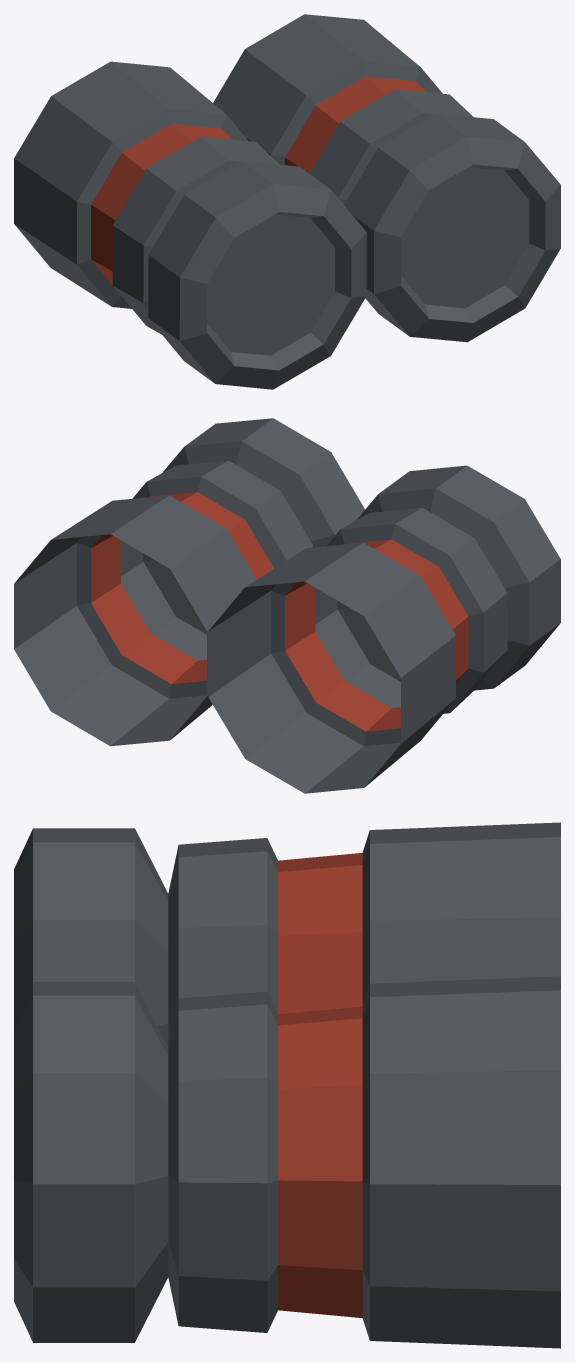
The model's file is Personal_Vehicle_02_Head_Lights_Red.fbx.
The picture shows the model from 3 angles, top to bottom: view 1: azimuth 30°, elevation 25°; view 2: azimuth 150°, elevation 25°; view 3: azimuth 270°, elevation 25°; orthographic projection. The views are drawn at different scales.
Visible parts, largest first — view 1: Personal_Vehicle_02_Head_Lights_Red; view 2: Personal_Vehicle_02_Head_Lights_Red; view 3: Personal_Vehicle_02_Head_Lights_Red.
Boxes of the visible parts, box(x1,y1,x2,y2) form: Personal_Vehicle_02_Head_Lights_Red: box(14, 14, 560, 389); Personal_Vehicle_02_Head_Lights_Red: box(14, 418, 560, 793); Personal_Vehicle_02_Head_Lights_Red: box(14, 822, 560, 1348).
Bounding box in the file's own units: 38.22 × 20.02 × 28.86.
2 materials, 2 textured.
